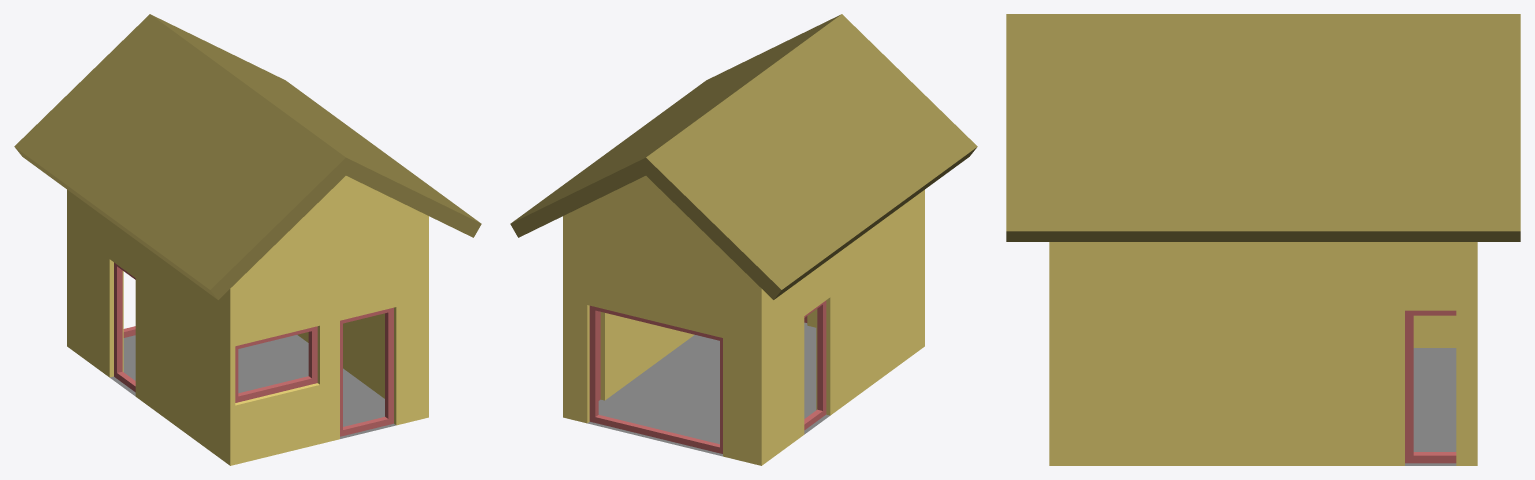
The model's file is result.glb.
3 renders of one model, left to right at view 1: azimuth 30°, elevation 25°; view 2: azimuth 150°, elevation 25°; view 3: azimuth 270°, elevation 25°, orthographic. The views are drawn at different scales.
Parts seen in each view (by area): view 1: 40dcabc7-756c-4a51-a1d9-a078c809f5c9__undefined, 53e40eb2-64de-4625-84e5-fc087a717999__undefined (×2), ff80f3e2-68ea-4894-a90b-058a555e3a3f__Plane_6, c449d274-a81b-43c9-afee-842dc4f5c5ce__Box, 2d9fe671-3a01-4cc7-9626-72f68d89b4cc__Box_3, 38c0b861-fd3d-4f63-917c-1bb78dd8c8c6__Box_12; view 2: 53e40eb2-64de-4625-84e5-fc087a717999__undefined (×2), 40dcabc7-756c-4a51-a1d9-a078c809f5c9__undefined, ff80f3e2-68ea-4894-a90b-058a555e3a3f__Plane_6, a000a878-a730-4d0b-afb6-45bad5007945__Box_9, 38c0b861-fd3d-4f63-917c-1bb78dd8c8c6__Box_12; view 3: 53e40eb2-64de-4625-84e5-fc087a717999__undefined, 40dcabc7-756c-4a51-a1d9-a078c809f5c9__undefined, ff80f3e2-68ea-4894-a90b-058a555e3a3f__Plane_6, 500c5b72-825e-4755-a674-432ec43135cc__Box_15.
Part boxes in pixels (x1,y1,x2,y2): 40dcabc7-756c-4a51-a1d9-a078c809f5c9__undefined: (67, 176, 428, 465); 53e40eb2-64de-4625-84e5-fc087a717999__undefined (×2): (14, 14, 481, 299); ff80f3e2-68ea-4894-a90b-058a555e3a3f__Plane_6: (110, 335, 395, 438); c449d274-a81b-43c9-afee-842dc4f5c5ce__Box: (340, 307, 393, 436); 2d9fe671-3a01-4cc7-9626-72f68d89b4cc__Box_3: (235, 326, 317, 402); 38c0b861-fd3d-4f63-917c-1bb78dd8c8c6__Box_12: (114, 262, 135, 392); 53e40eb2-64de-4625-84e5-fc087a717999__undefined (×2): (510, 14, 977, 299); 40dcabc7-756c-4a51-a1d9-a078c809f5c9__undefined: (563, 176, 924, 465); ff80f3e2-68ea-4894-a90b-058a555e3a3f__Plane_6: (587, 322, 829, 456); a000a878-a730-4d0b-afb6-45bad5007945__Box_9: (589, 305, 722, 453); 38c0b861-fd3d-4f63-917c-1bb78dd8c8c6__Box_12: (804, 300, 826, 430); 53e40eb2-64de-4625-84e5-fc087a717999__undefined: (1006, 14, 1520, 241); 40dcabc7-756c-4a51-a1d9-a078c809f5c9__undefined: (1049, 242, 1477, 465); ff80f3e2-68ea-4894-a90b-058a555e3a3f__Plane_6: (1405, 348, 1456, 465); 500c5b72-825e-4755-a674-432ec43135cc__Box_15: (1405, 310, 1456, 463).
Bounding box in the file's own units: 480 × 500 × 600.
